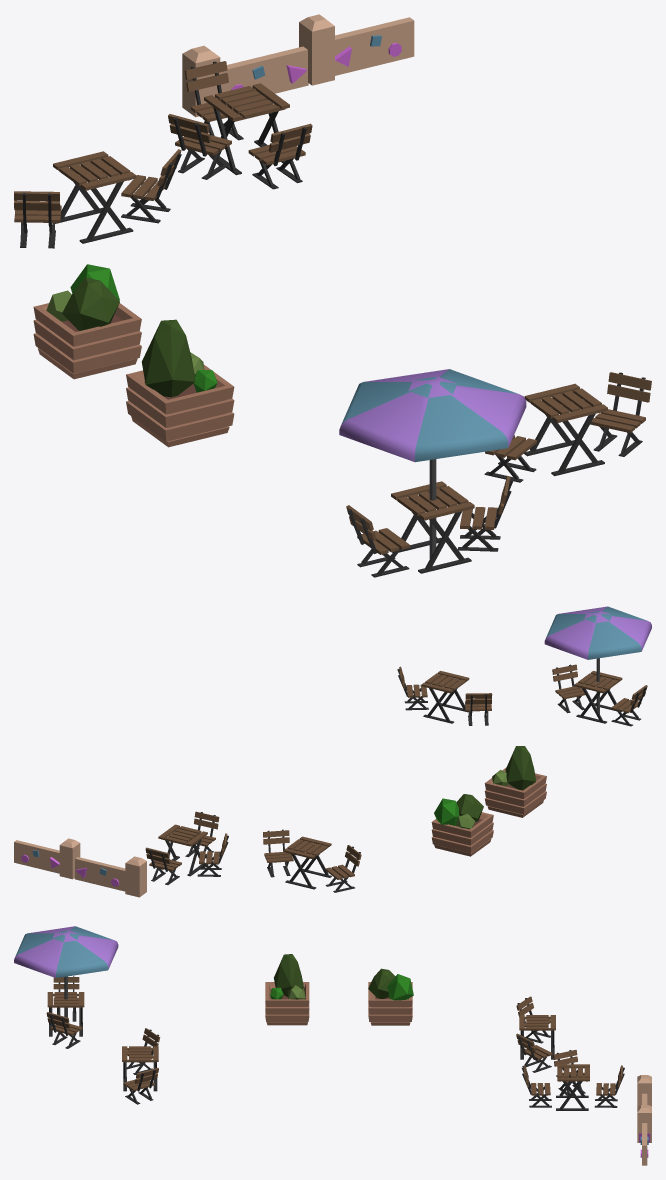
The picture shows the model from 3 angles, top to bottom: view 1: azimuth 30°, elevation 25°; view 2: azimuth 150°, elevation 25°; view 3: azimuth 270°, elevation 25°; orthographic projection. The views are drawn at different scales.
Visible parts, largest first — view 1: T-Room Arcade O; view 2: T-Room Arcade O; view 3: T-Room Arcade O.
Boxes of the visible parts, left/top/right/bottom form: T-Room Arcade O: left=14, top=14, right=651, bottom=577; T-Room Arcade O: left=14, top=606, right=651, bottom=897; T-Room Arcade O: left=14, top=926, right=651, bottom=1165.
Size of the model in its own units: 10.25 by 2.94 by 17.3.
1 material, 1 textured.
